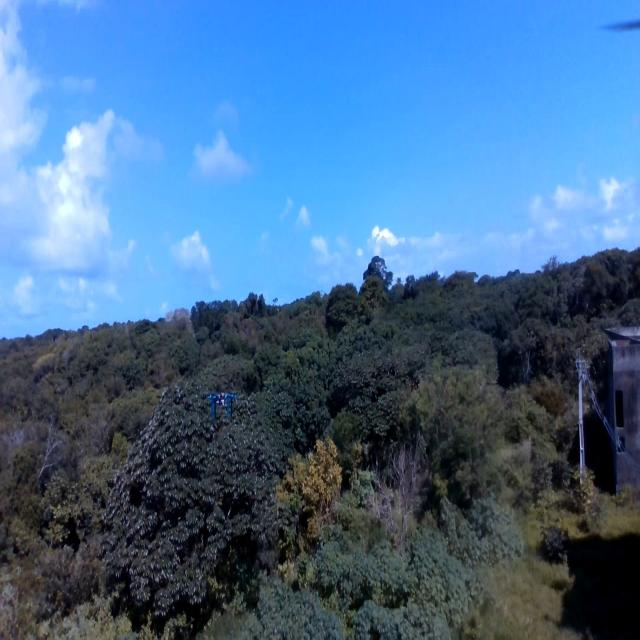-uav-: (196, 372, 245, 438)
